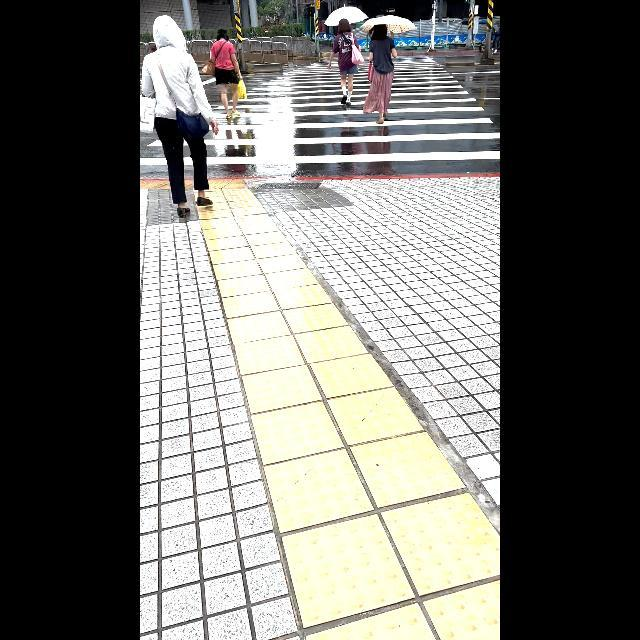sidewalk: (142, 57, 500, 163)
